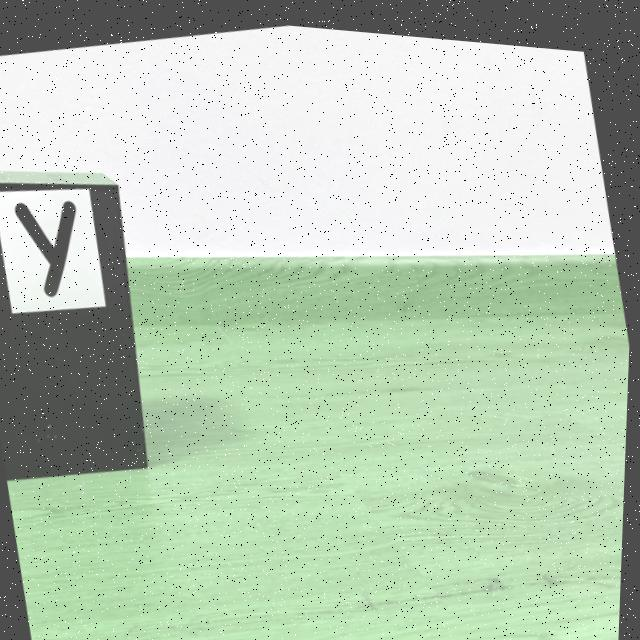Y: (17, 199, 78, 296)
